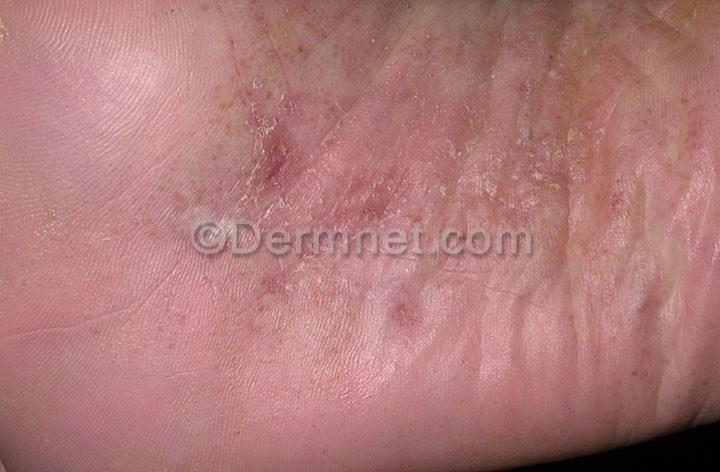Eczema: (208, 247, 417, 378), (608, 4, 715, 211), (534, 251, 662, 401), (417, 250, 524, 410), (0, 175, 97, 331), (99, 193, 194, 348), (207, 92, 319, 219), (421, 98, 513, 231), (239, 387, 399, 459), (131, 367, 240, 472), (519, 96, 605, 229), (327, 142, 417, 257), (205, 0, 311, 88), (508, 23, 607, 92), (406, 22, 494, 97), (633, 212, 695, 317), (324, 72, 419, 139), (324, 1, 400, 71), (120, 138, 203, 190), (416, 6, 493, 20)
